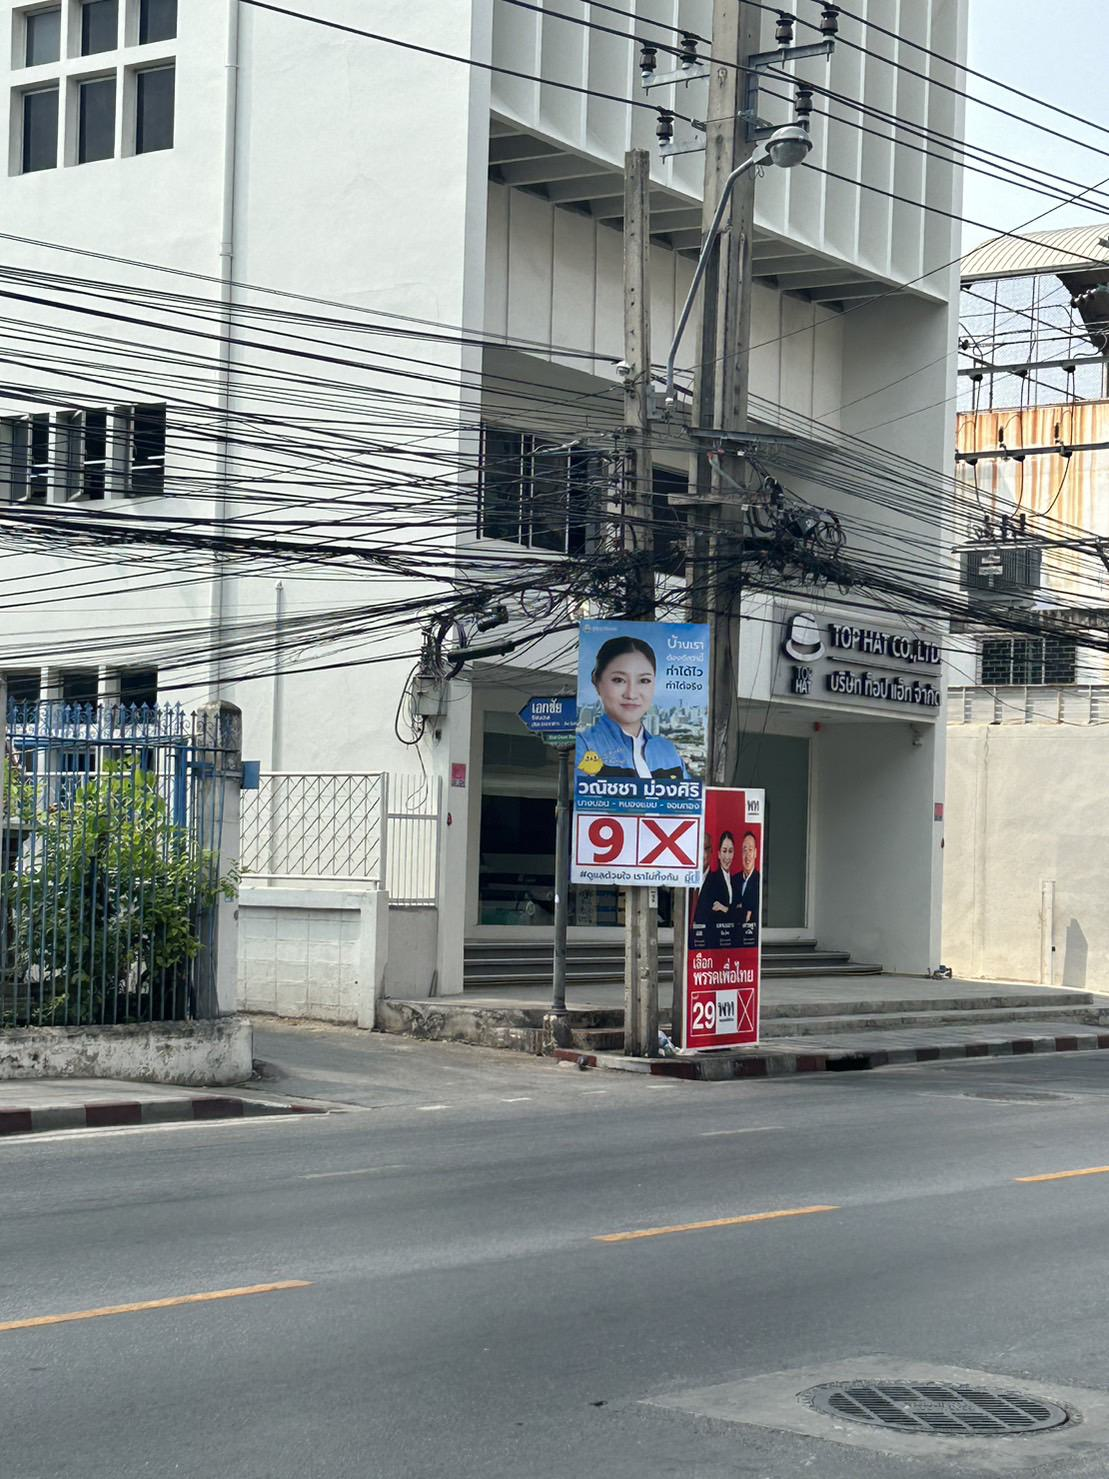Banner: (566, 620, 707, 884), (679, 781, 784, 1060)
